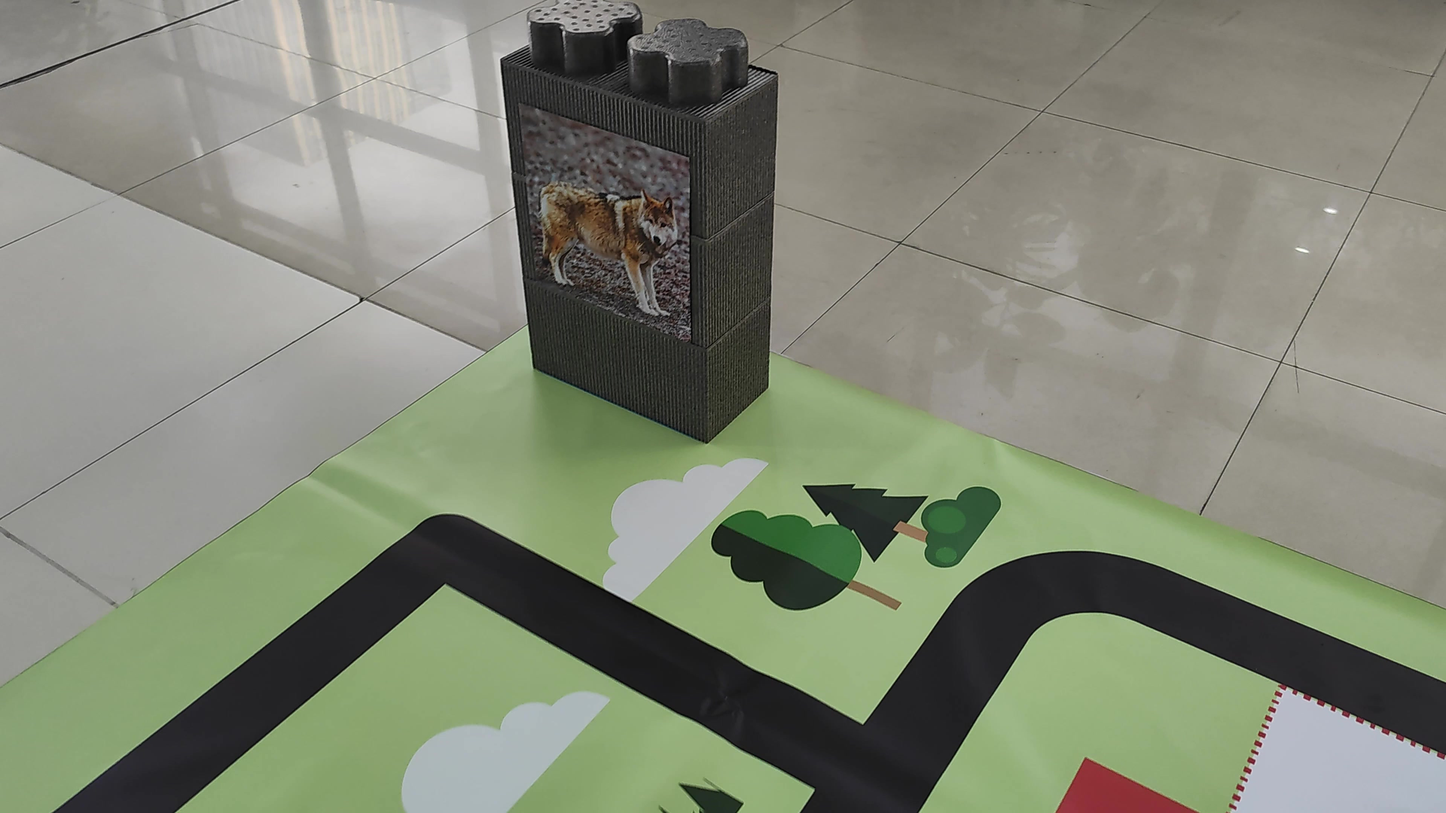wolf: (521, 150, 683, 328)
